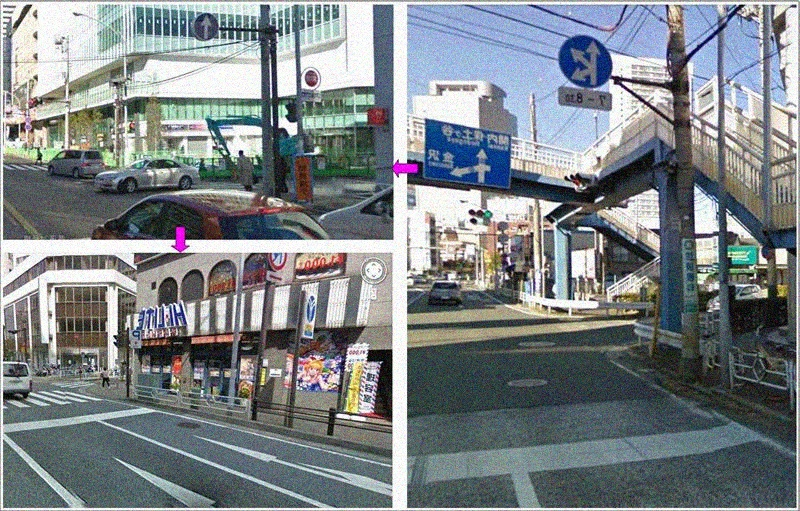Direction_sign: (560, 21, 612, 88), (192, 14, 227, 46)
